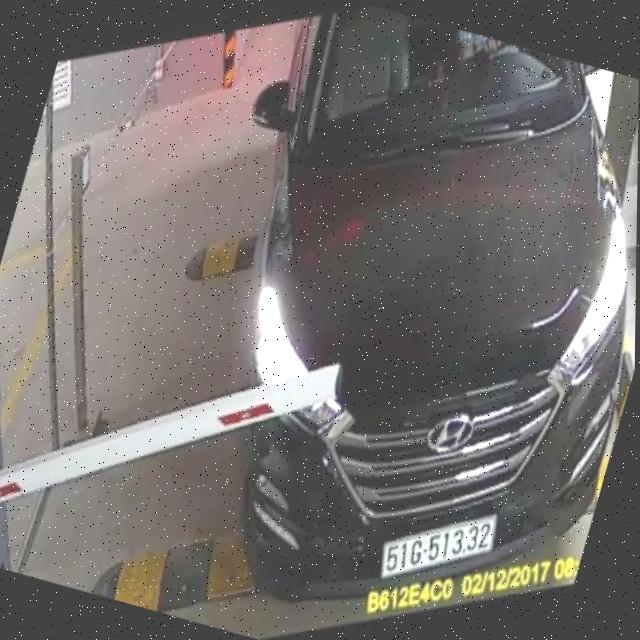car: (123, 1, 640, 640)
plate: (372, 488, 503, 605)
